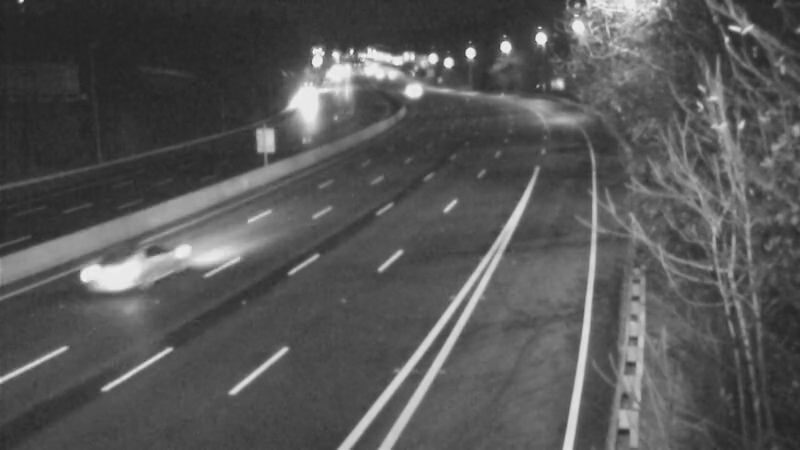vehicle: (75, 234, 155, 314), (389, 68, 439, 118)
